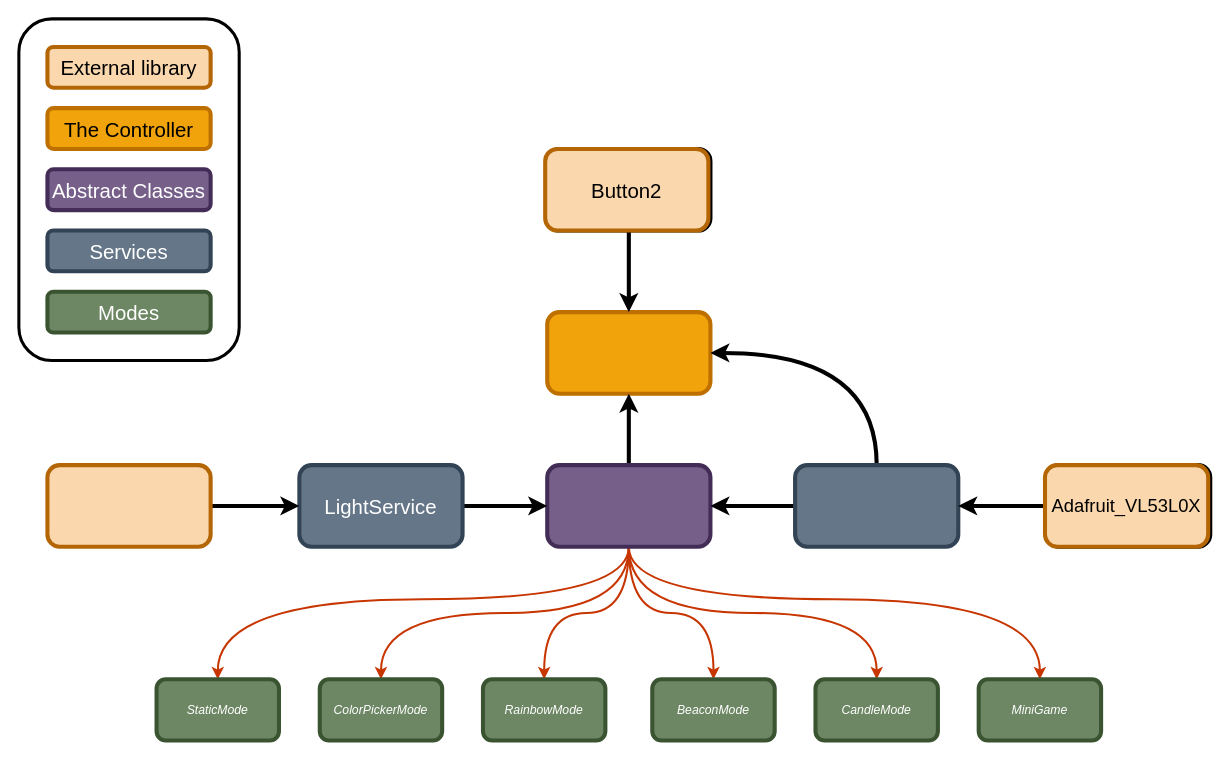
Some shapes in this 1230 by 760 pixel diagram are drawn without their labels. The centre of each missing label's shape, as x and y in pixels:
AbstractMode: the point at 628,505
Controller: the point at 628,352
DistanceService: the point at 876,505
FastLED: the point at 128,505
